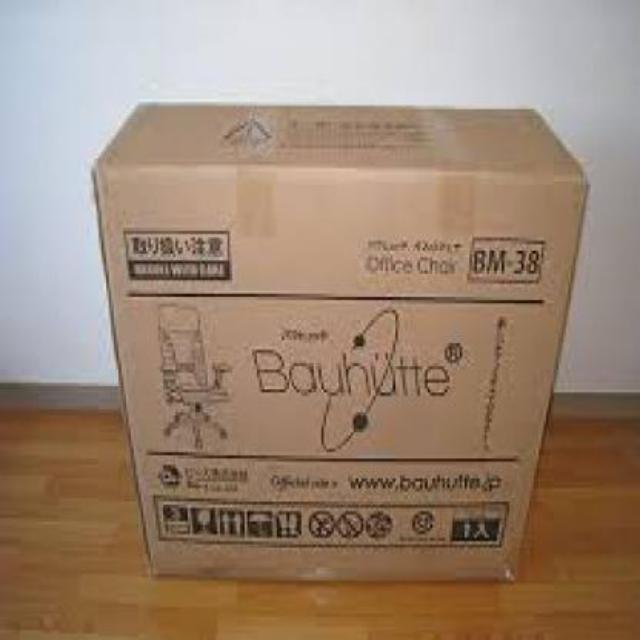cardboard_box: (94, 96, 574, 584)
